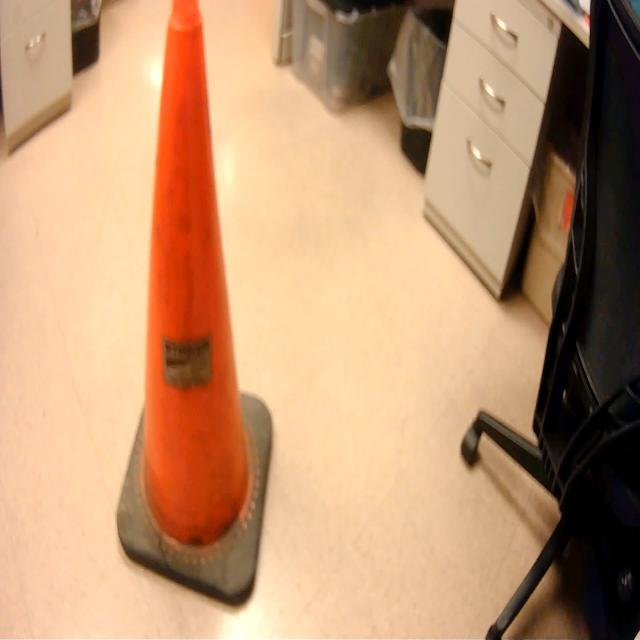traffic cone: (111, 1, 280, 620)
